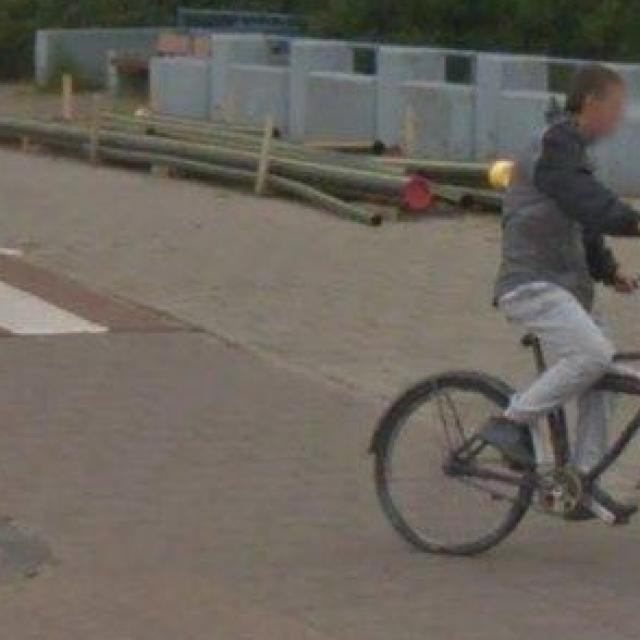bicycle: (322, 279, 632, 590)
